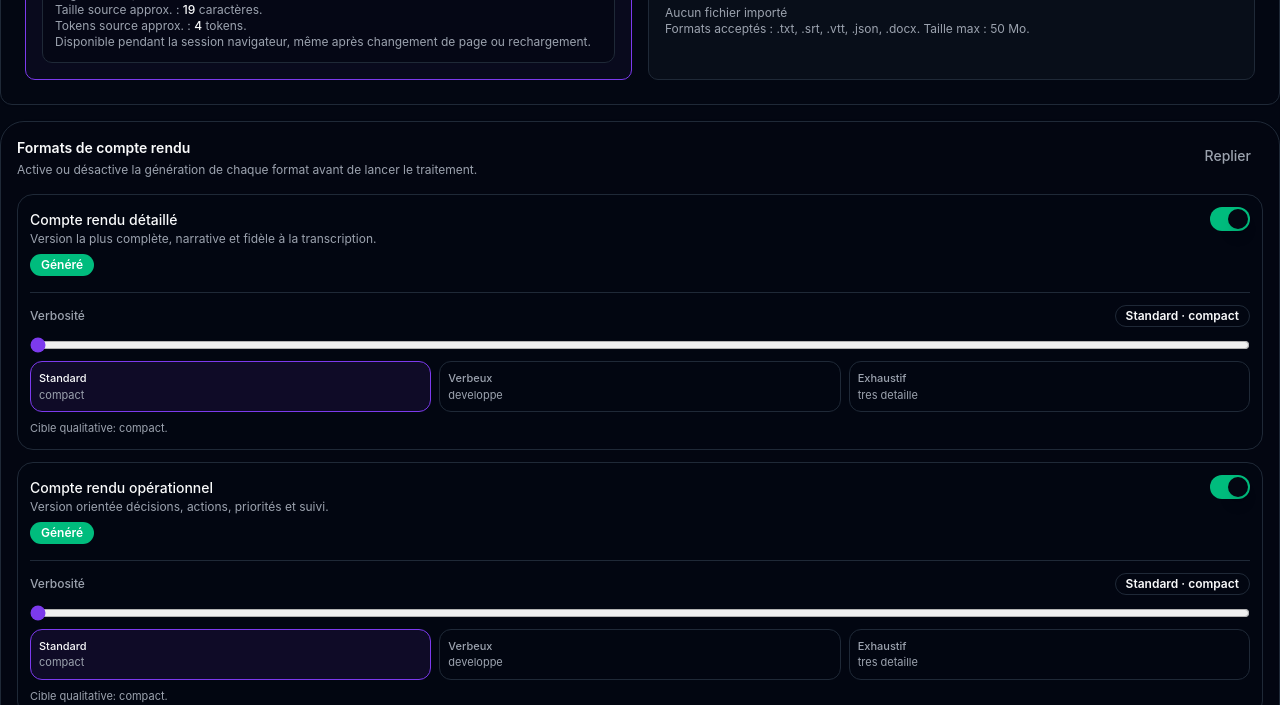
Test case: LLMApiPage › renders report detail sliders and updates the store
(page scrolled)
Check: the heading "Formats de compte rendu" is shown, box [17,139,190,156]
Set the slider named "Compte rendu détaillé" to "1" at (640, 345), box [30,337,1250,353]
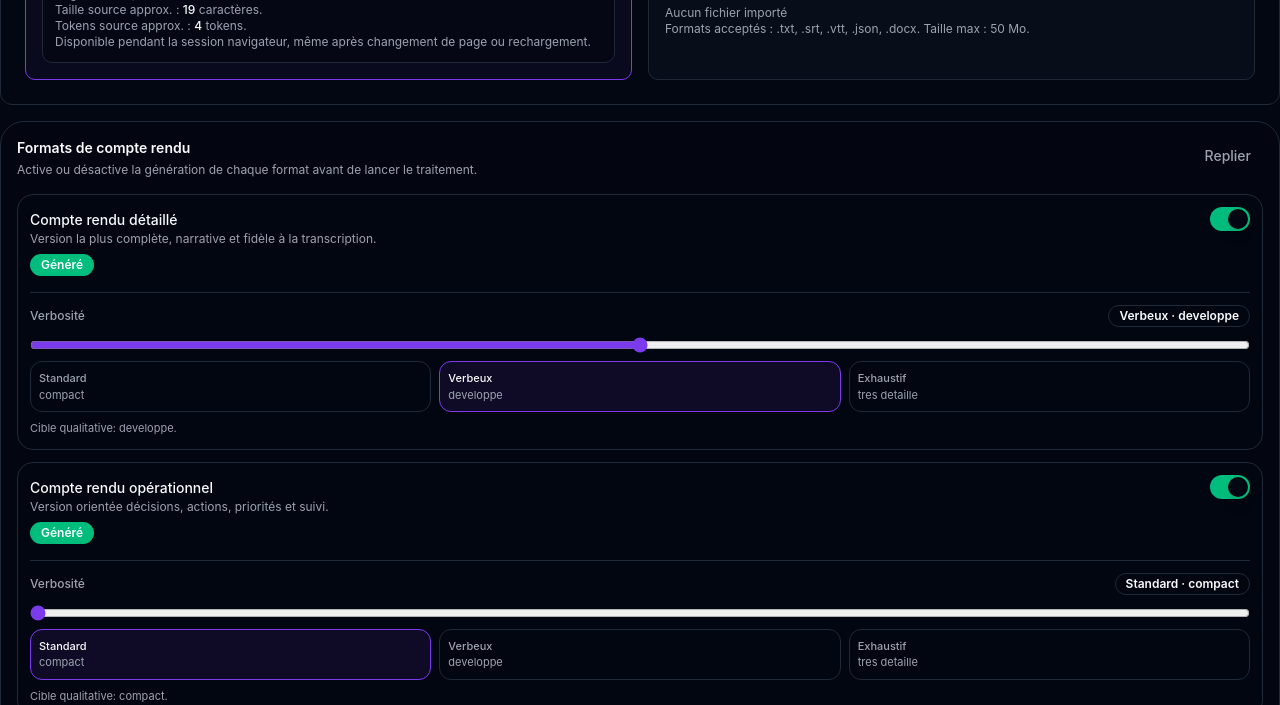
Click the switch named "Compte rendu détaillé activé" at (1230, 219), box [1210,207,1250,231]
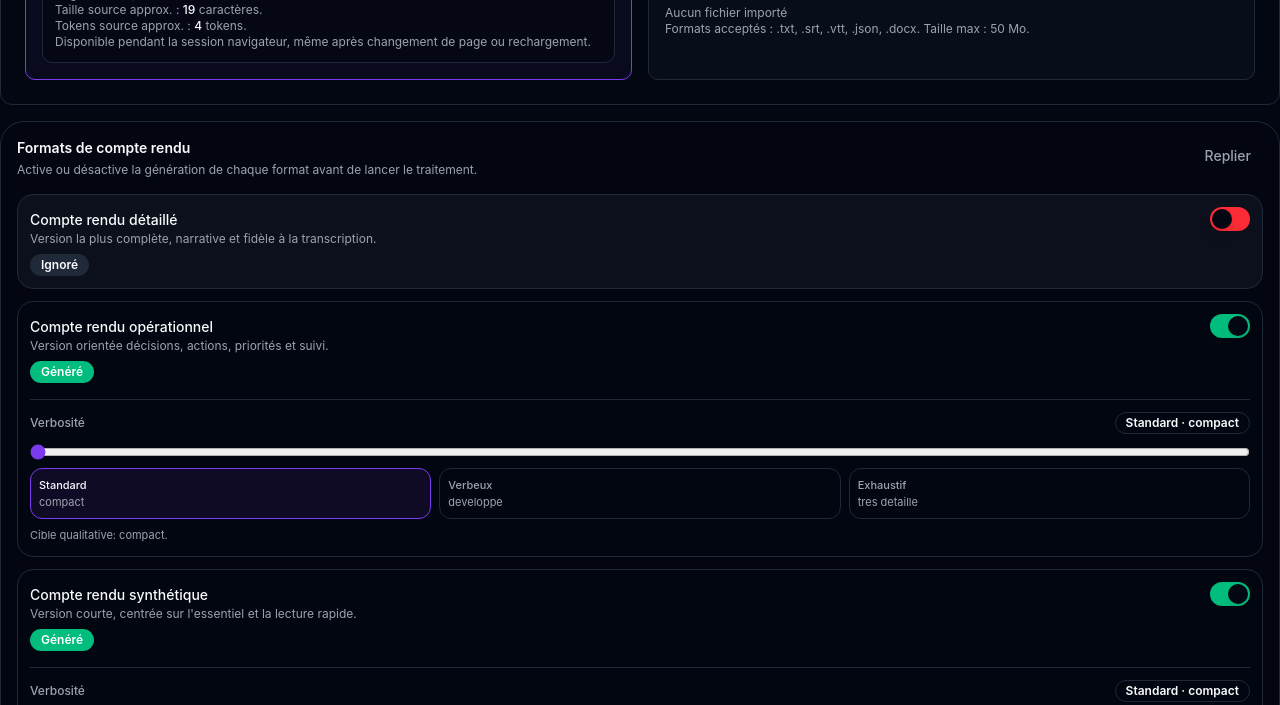
Check: the switch named "Compte rendu détaillé désactivé" is shown
Click the switch named "Compte rendu détaillé désactivé" at (1230, 219), box [1210,207,1250,231]
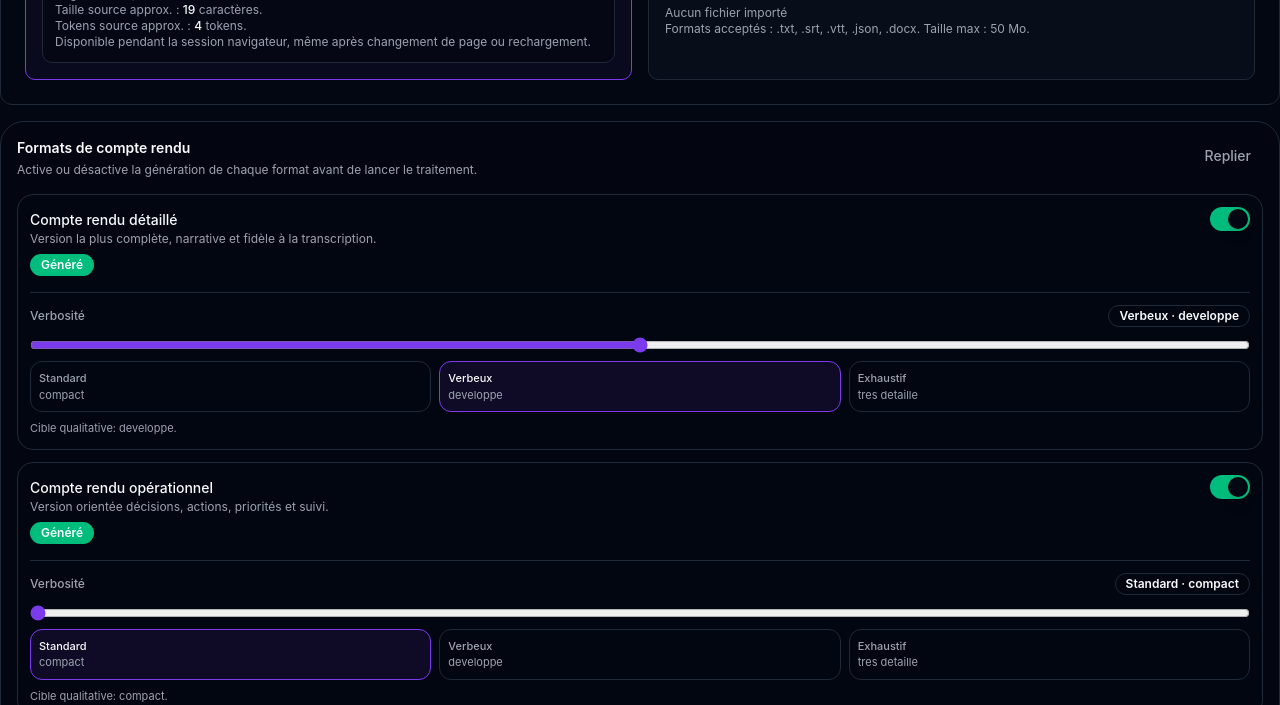
Check: the slider named "Compte rendu détaillé" holds "1", box [30,337,1250,353]
